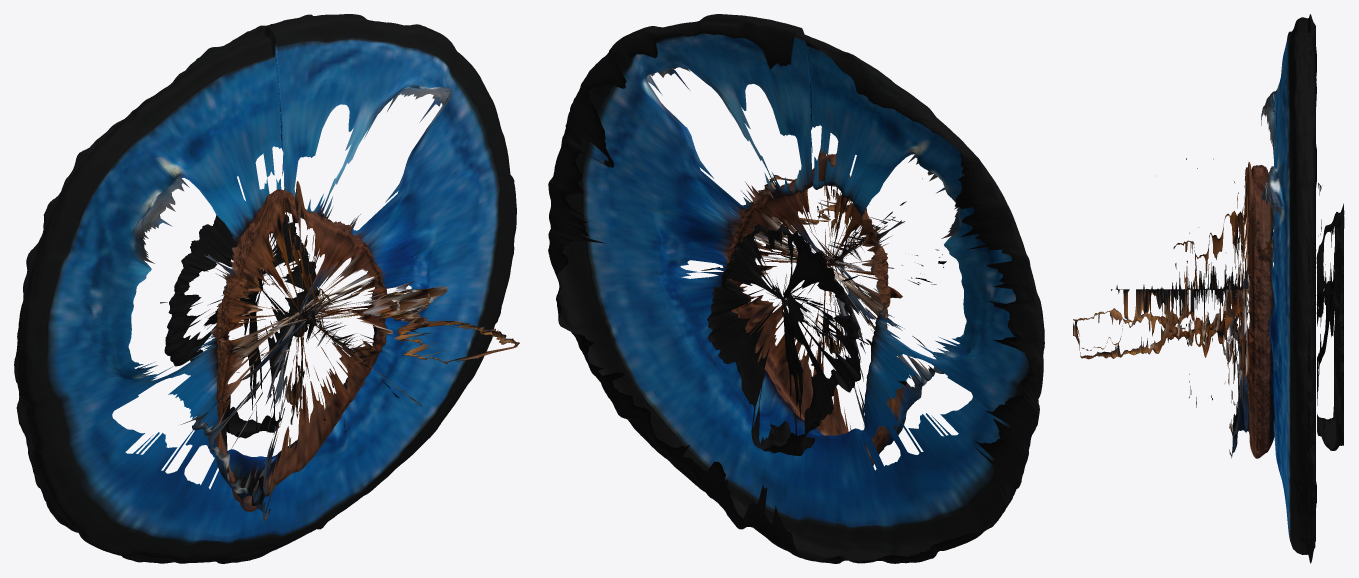
3 views of the same model, side by side, from view 1: azimuth 30°, elevation 25°; view 2: azimuth 150°, elevation 25°; view 3: azimuth 270°, elevation 25° (orthographic). The views are drawn at different scales.
Parts seen in each view (by area): view 1: geometry_0; view 2: geometry_0; view 3: geometry_0.
Boxes of the visible parts, x1,y1,x2,y2 form: geometry_0: (14,14,519,563); geometry_0: (548,14,1044,563); geometry_0: (1073,14,1344,563).
Bounding box in the file's own units: 1.85 × 1.88 × 0.8894.
1 material, 1 textured.
